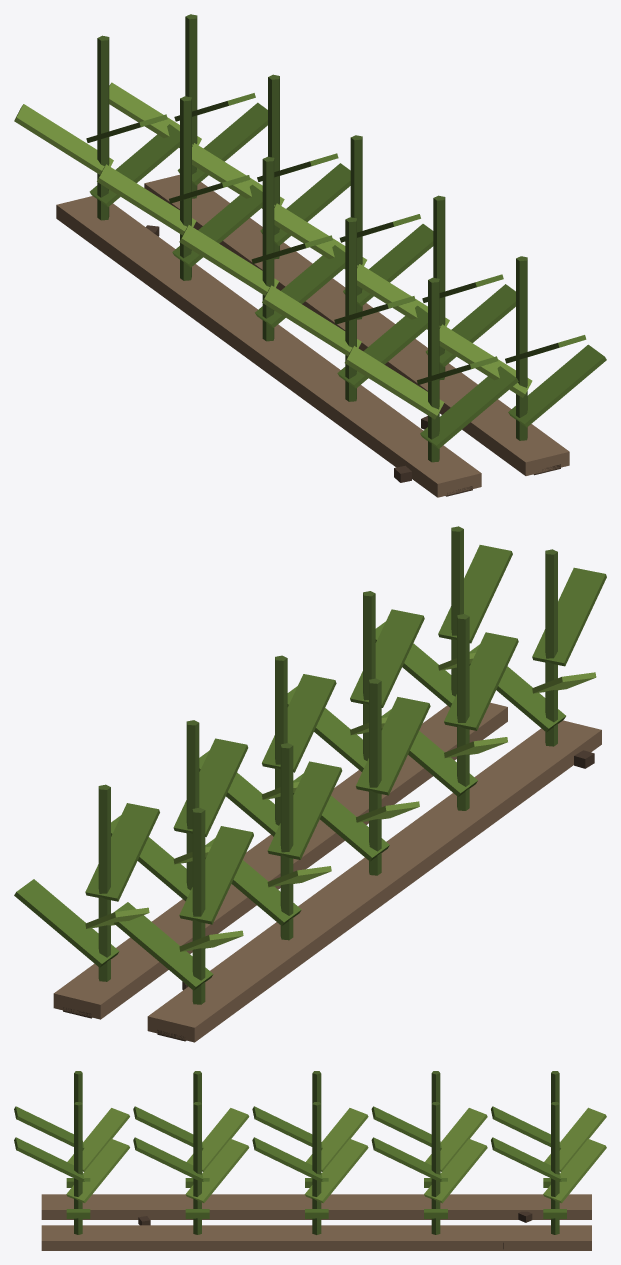
File: crop_corn_2.glb
3 renders of one model, top to bottom at view 1: azimuth 30°, elevation 25°; view 2: azimuth 150°, elevation 25°; view 3: azimuth 270°, elevation 25°, orthographic. The views are drawn at different scales.
Visible parts, largest first — view 1: room_crop_corn_2; view 2: room_crop_corn_2; view 3: room_crop_corn_2.
Part boxes in pixels (x1,y1,x2,y2): room_crop_corn_2: (14,14,606,497); room_crop_corn_2: (14,526,606,1042); room_crop_corn_2: (14,1071,606,1250).
Size of the model in its own units: 1.05 by 0.845 by 3.23.
